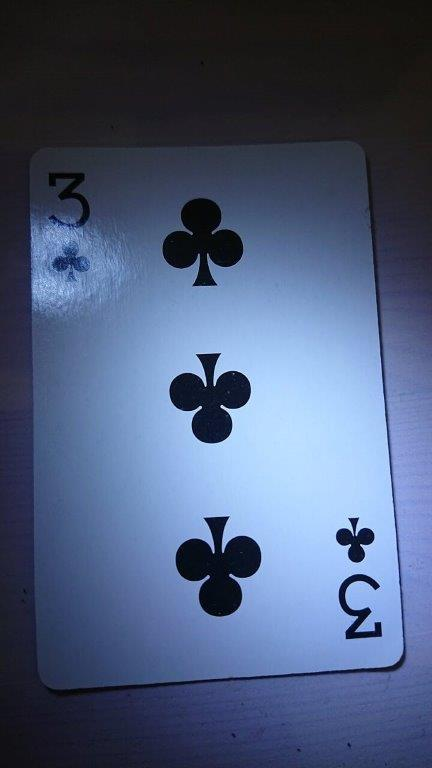3C: (26, 137, 407, 694)
